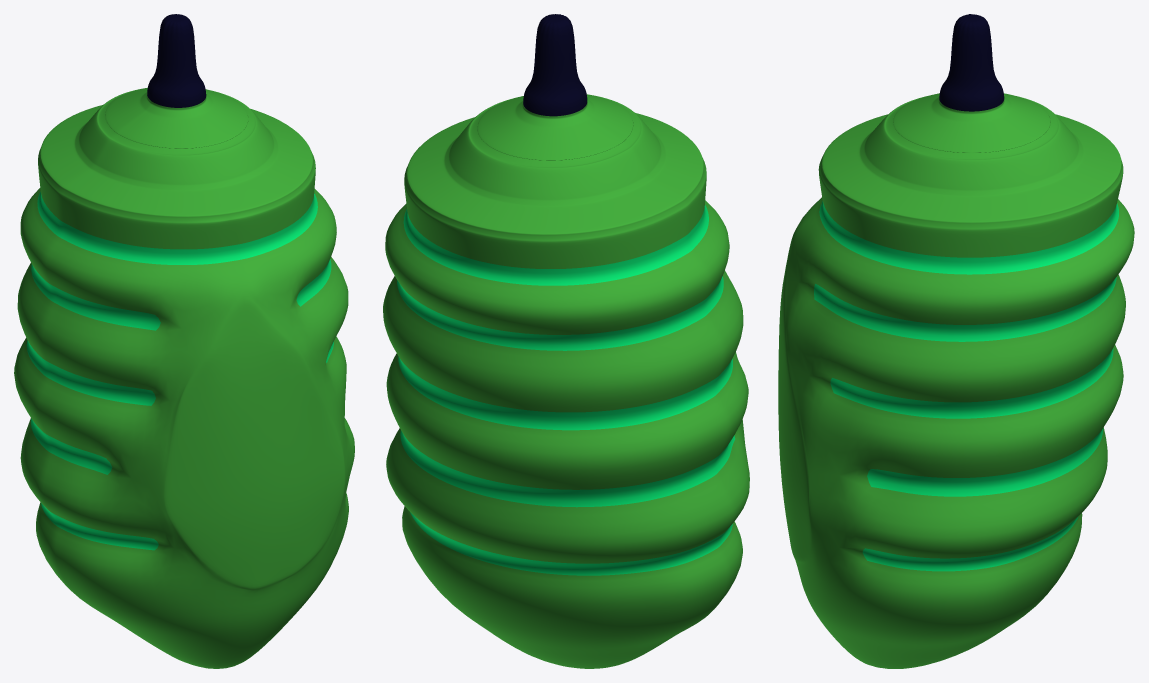
3 renders of one model, left to right at view 1: azimuth 30°, elevation 25°; view 2: azimuth 150°, elevation 25°; view 3: azimuth 270°, elevation 25°, orthographic. The views are drawn at different scales.
Visible parts, largest first — view 1: pCylinder1; view 2: pCylinder1; view 3: pCylinder1.
Part boxes in pixels (box(x1,y1,x2,y2)): pCylinder1: box(14, 14, 354, 668); pCylinder1: box(383, 14, 749, 668); pCylinder1: box(778, 14, 1134, 668).
Size of the model in its own units: 0.883 by 1.74 by 0.8718.
